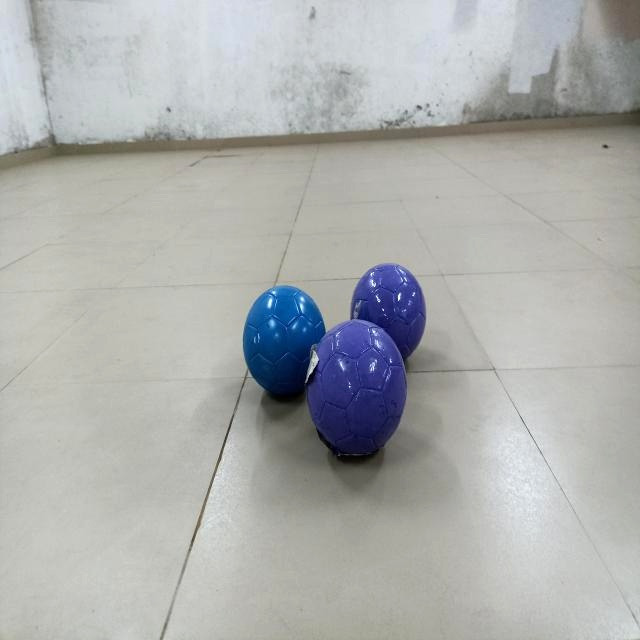blue_ball: (236, 284, 324, 401)
purple_ball: (302, 311, 407, 474), (355, 257, 431, 365)
